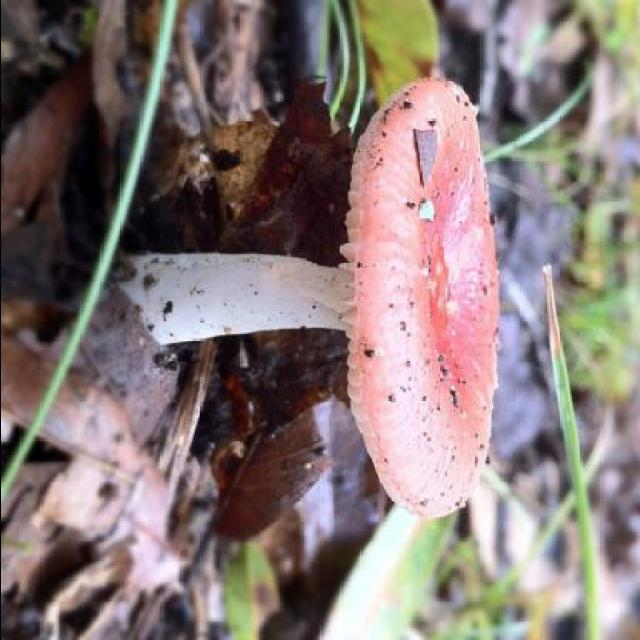Mushroom: (120, 76, 503, 533)
